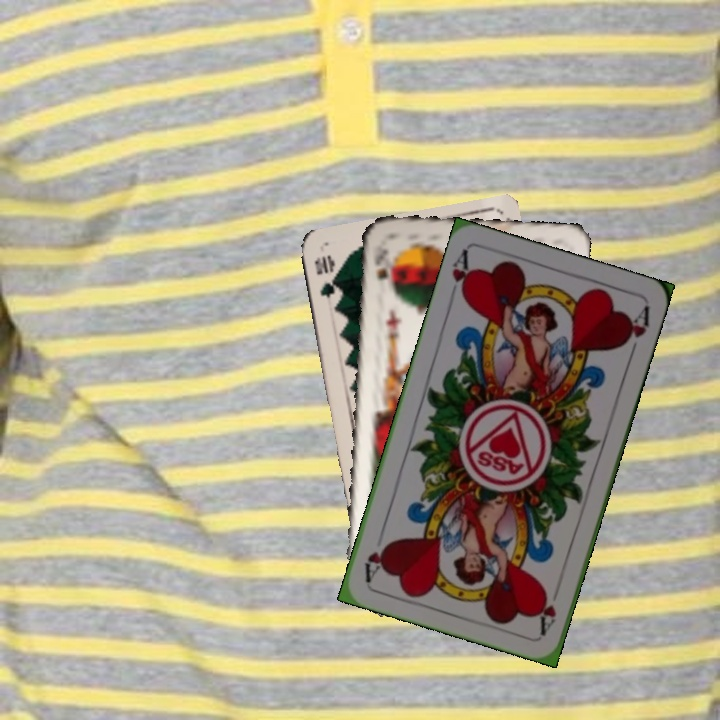G10: (310, 251, 338, 300)
HA: (445, 246, 475, 304), (535, 578, 564, 637)
SK: (369, 245, 394, 283)
